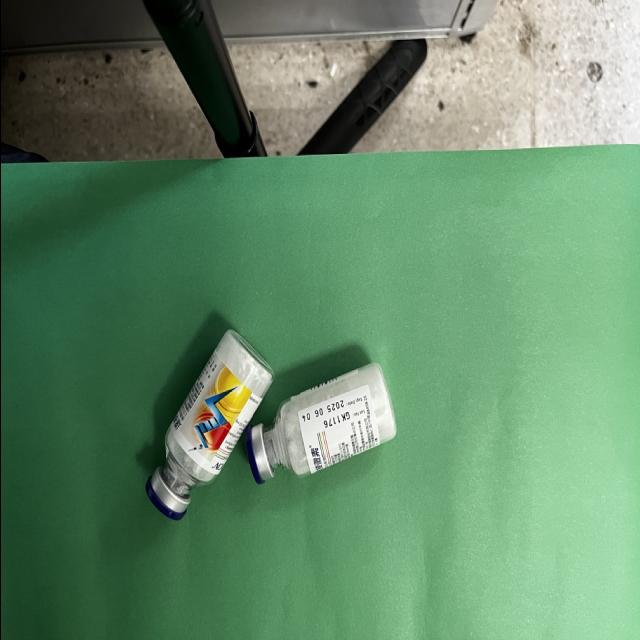Vials: (144, 330, 273, 522), (244, 362, 395, 485)
